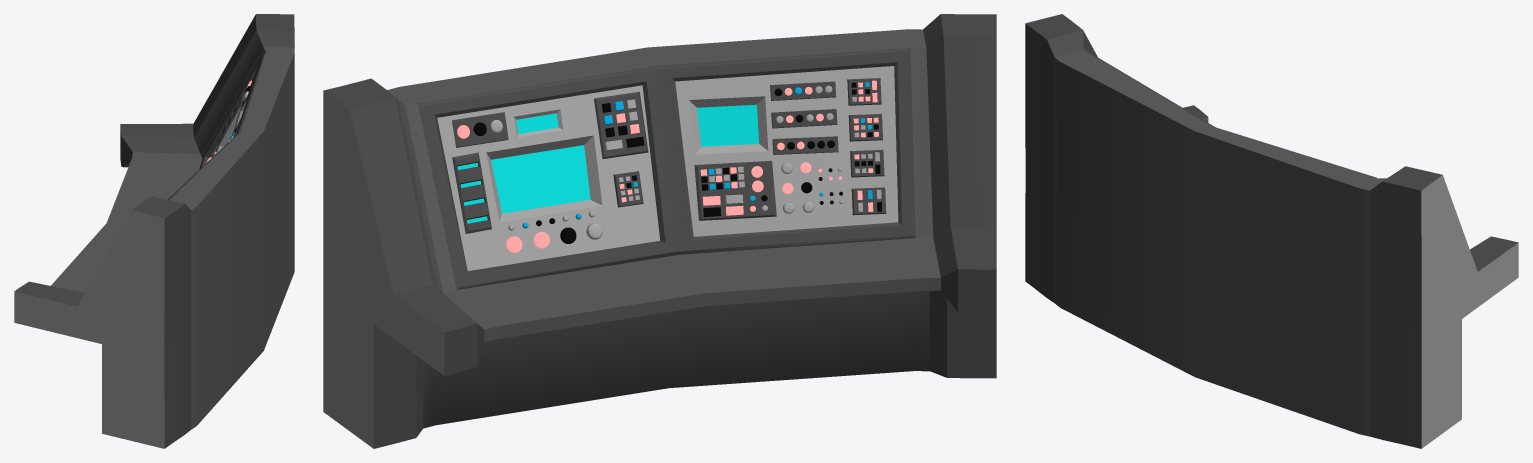
Rendered from CommandDesk.fbx.
3 renders of one model, left to right at view 1: azimuth 30°, elevation 25°; view 2: azimuth 150°, elevation 25°; view 3: azimuth 270°, elevation 25°, orthographic. The views are drawn at different scales.
Parts seen in each view (by area): view 1: CommandDesks, Panels; view 2: CommandDesks, Panels; view 3: CommandDesks.
Part boxes in pixels (x1=…): CommandDesks: x1=14, y1=14, x2=294, y2=448; Panels: x1=206, y1=76, x2=254, y2=162; CommandDesks: x1=323, y1=14, x2=996, y2=448; Panels: x1=452, y1=78, x2=886, y2=252; CommandDesks: x1=1025, y1=14, x2=1518, y2=448.
Bounding box in the file's own units: 10.91 × 6.31 × 10.91.
